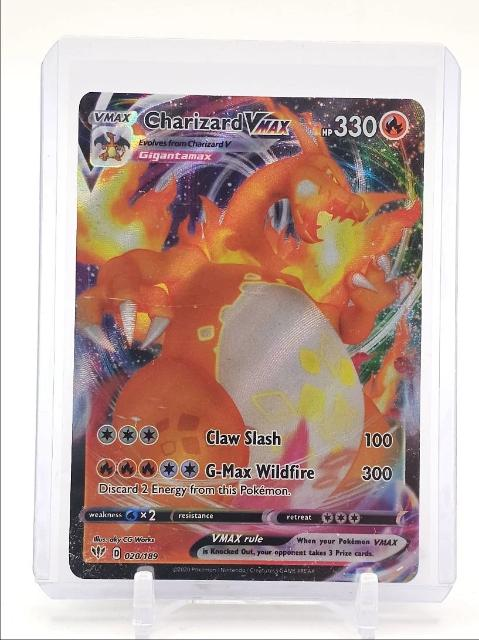Card: (64, 86, 428, 588)
Name: (137, 106, 297, 142)
